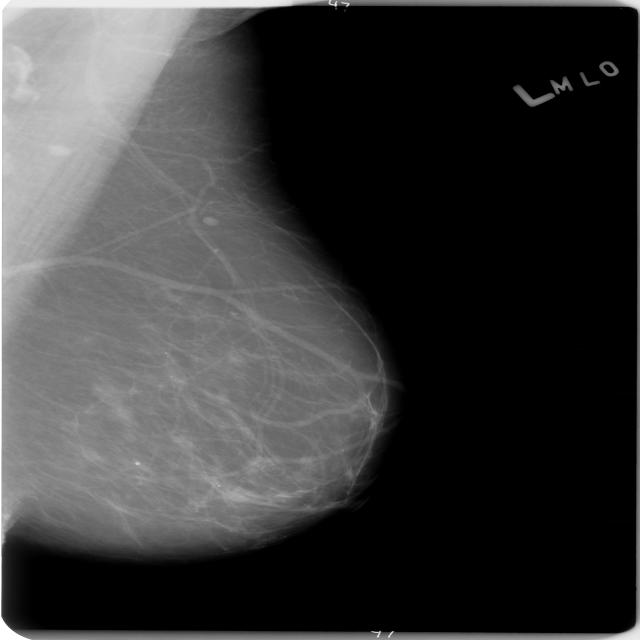normal: (0, 0, 393, 560)
